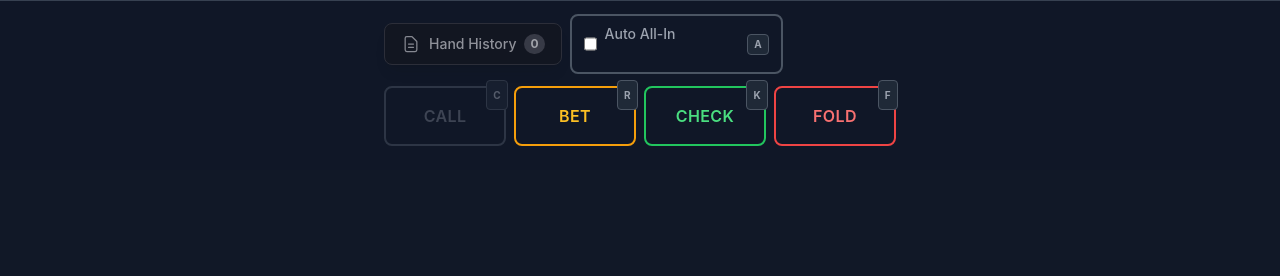
Scenario: ActionBar › raise panel › should clamp a preset display to the all-in max when it exceeds the time bank
Click the button with test id "raise-button" at (575, 116), box [514,86,636,146]
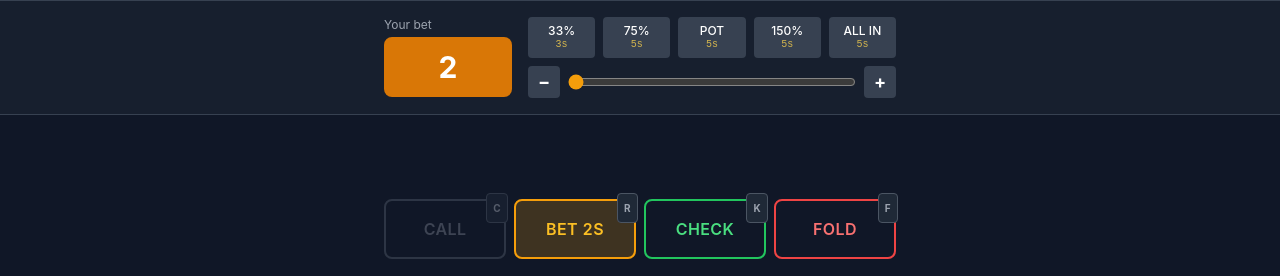
Now the button with test id "preset-150" shows "5s", box [754,17,821,58]
Now the button with test id "preset-allin" shows "5s", box [829,17,896,58]
